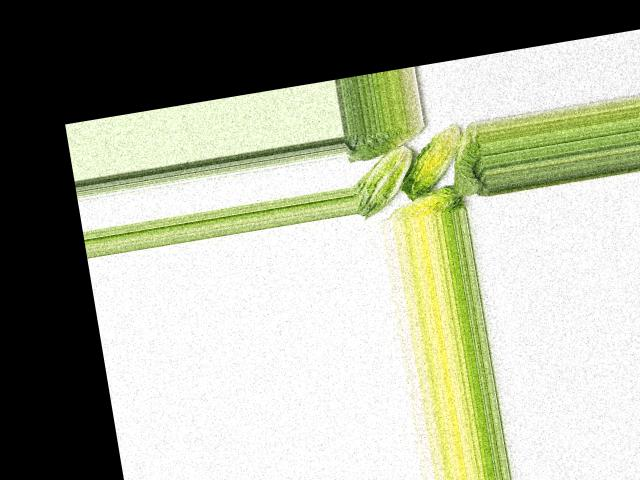lettuce: (442, 123, 490, 202)
